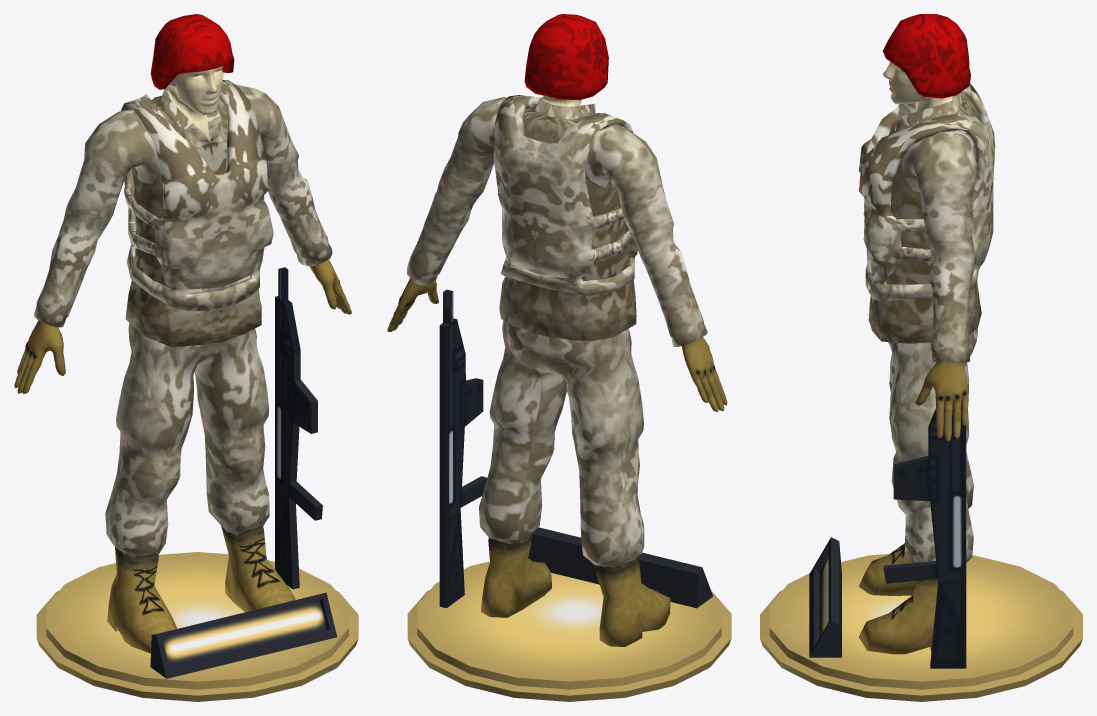
File: solider_unwrap.FBX
The picture shows the model from 3 angles, left to right: view 1: azimuth 30°, elevation 25°; view 2: azimuth 150°, elevation 25°; view 3: azimuth 270°, elevation 25°; orthographic projection.
Parts seen in each view (by area): view 1: Soldier; view 2: Soldier; view 3: Soldier.
Part boxes in pixels (x1,y1,x2,y2): Soldier: [14, 14, 358, 701]; Soldier: [387, 14, 731, 701]; Soldier: [760, 14, 1082, 701].
Bounding box in the file's own units: 40.62 × 71.91 × 34.25.
1 material, 1 textured.
